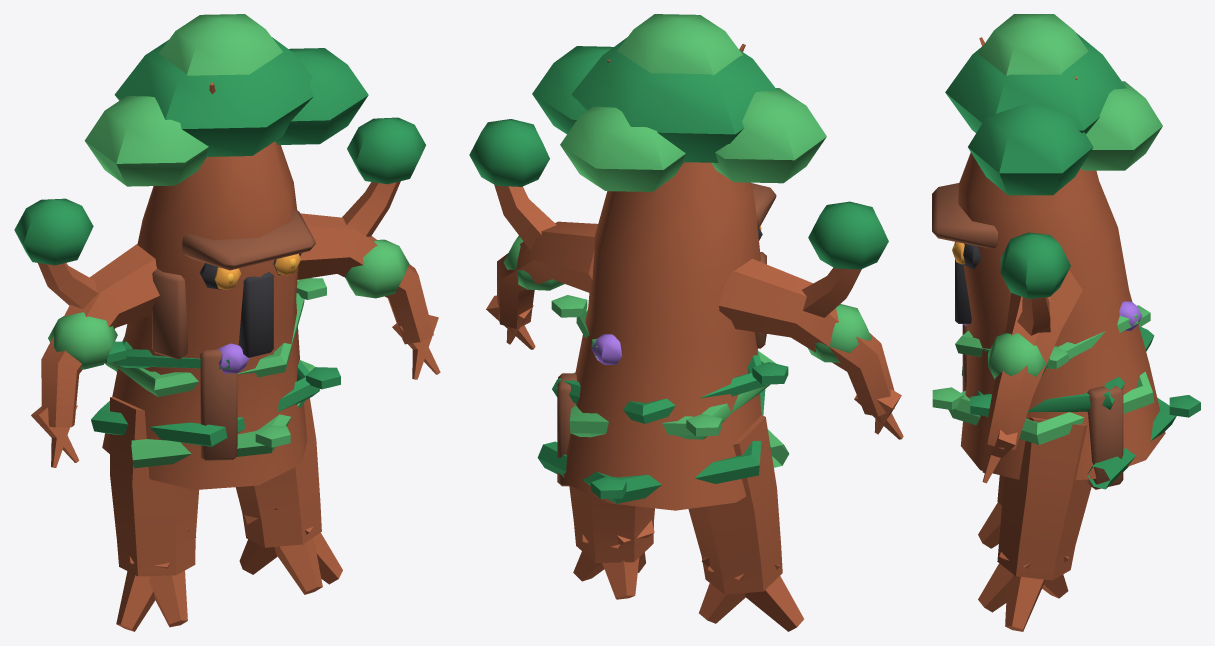
The model's file is vine_weaver.glb.
The picture shows the model from 3 angles, left to right: view 1: azimuth 30°, elevation 25°; view 2: azimuth 150°, elevation 25°; view 3: azimuth 270°, elevation 25°; orthographic projection. The views are drawn at different scales.
Visible parts, largest first — view 1: VineWeaver; view 2: VineWeaver; view 3: VineWeaver.
Boxes of the visible parts, x1,y1,x2,y2 form: VineWeaver: (14, 14, 440, 631); VineWeaver: (469, 14, 903, 631); VineWeaver: (932, 14, 1200, 631).
Bounding box in the file's own units: 1.34 × 1.85 × 0.7996.
Materials: 1 (1 with a texture image).
